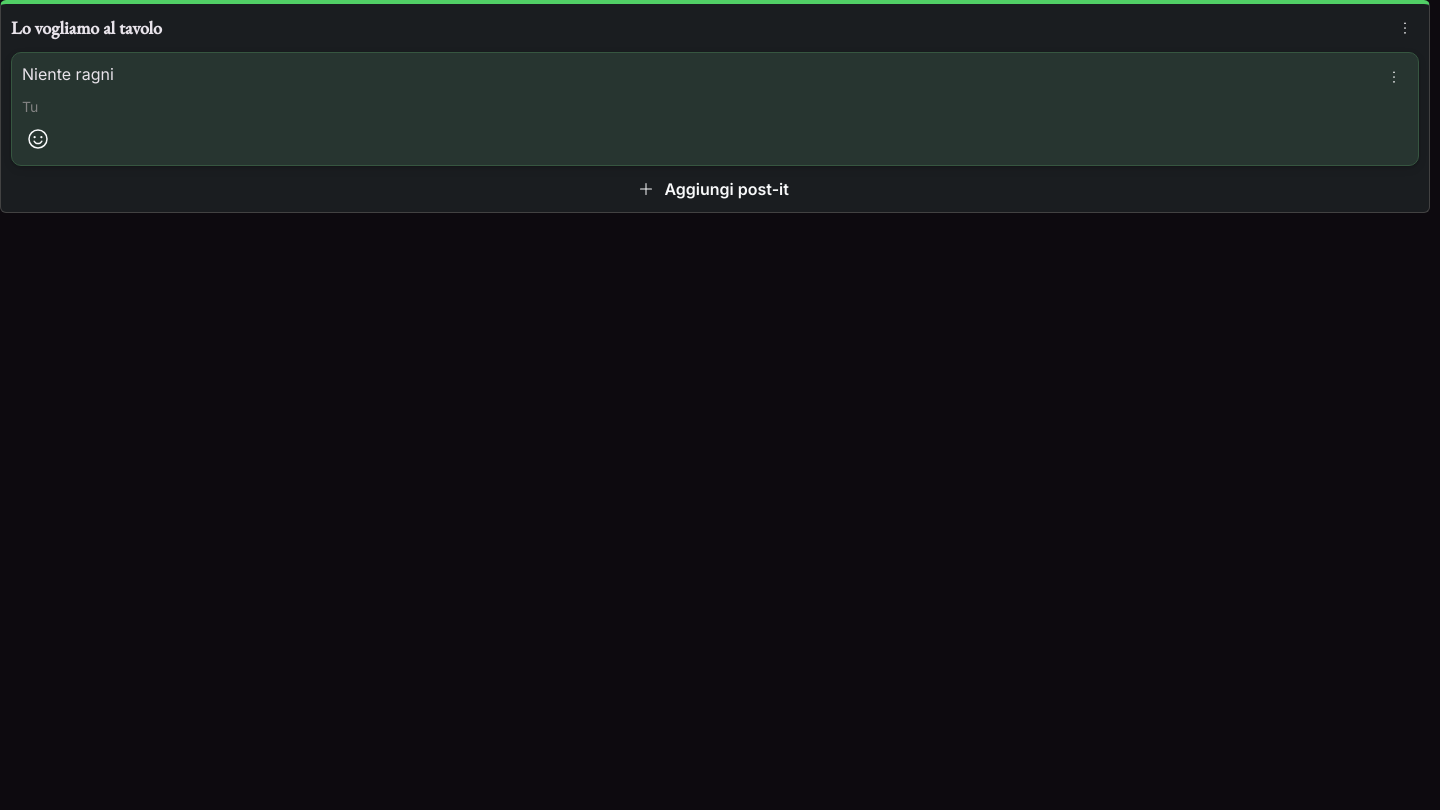
Test: RetroColumn › wears its colour, which the Master changes from its menu
This screenshot has width=1440, height=810.
Step 1. Click the button named "Azioni della colonna Lo vogliamo al tavolo" → (1405, 28), box [1391, 14, 1419, 42]
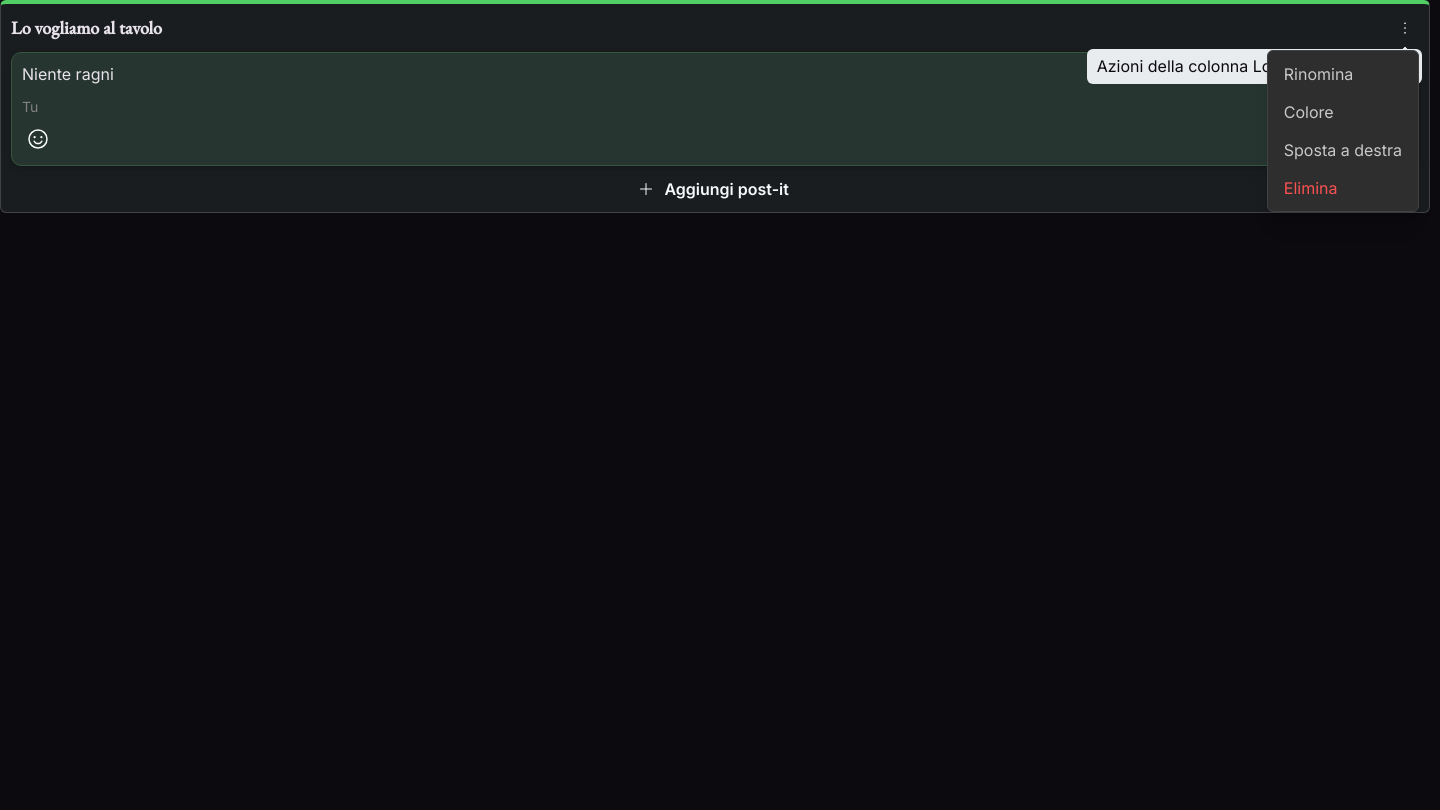
Step 2. Click the menu item "Colore" → (1343, 112), box [1272, 93, 1414, 131]
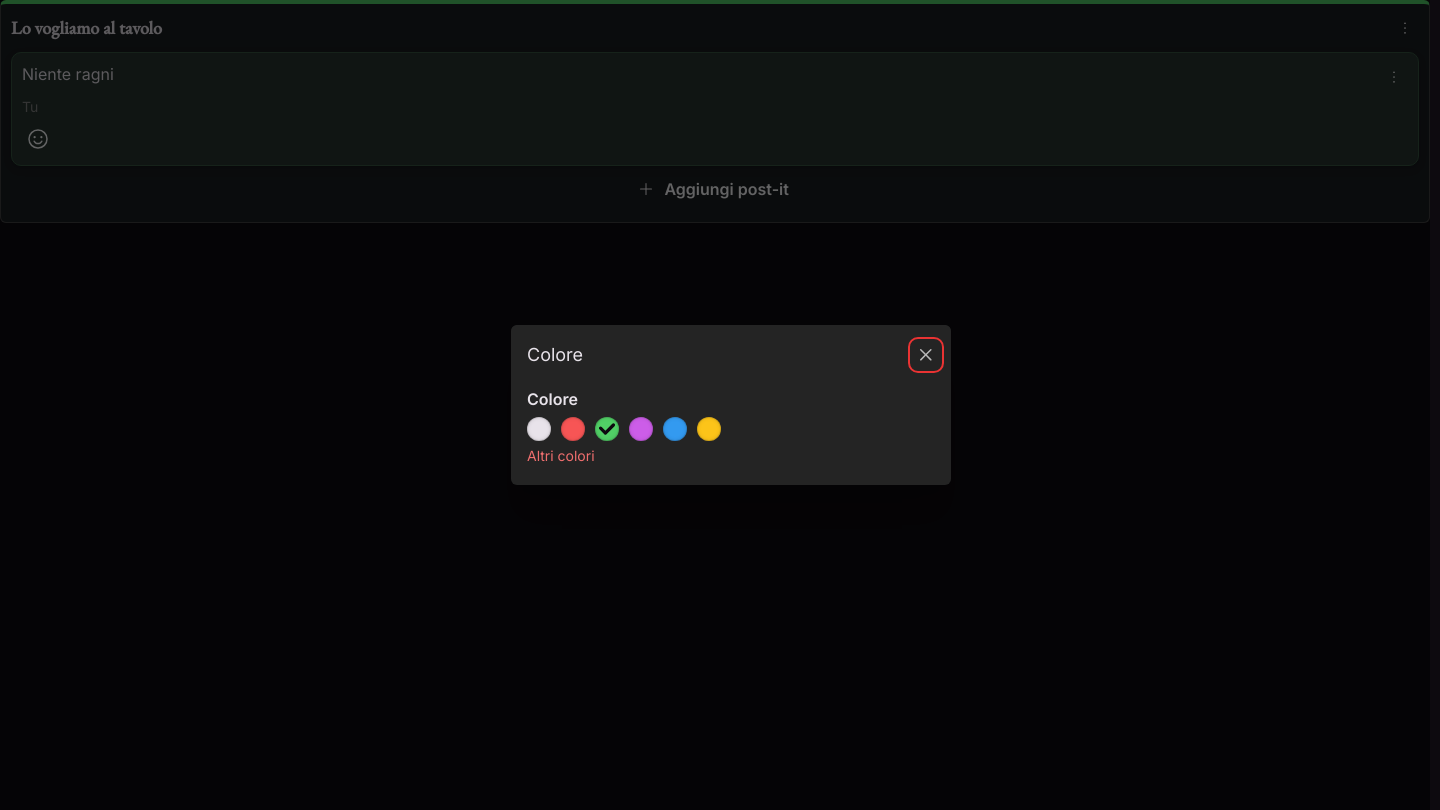
Step 3. Press Escape
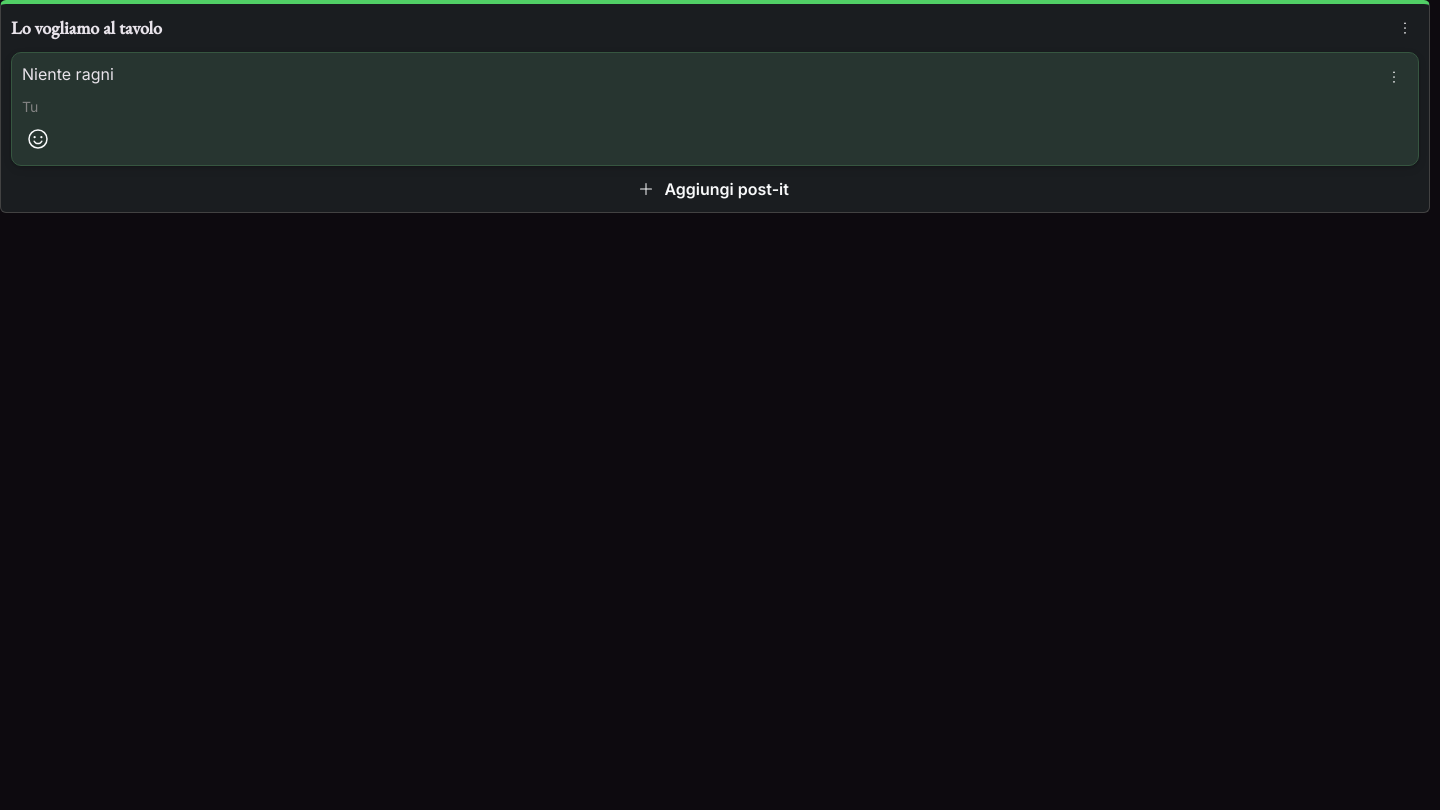
Expected: the dialog is gone
Step 4. Click the button named "Azioni della colonna Lo vogliamo al tavolo" → (1405, 28), box [1391, 14, 1419, 42]
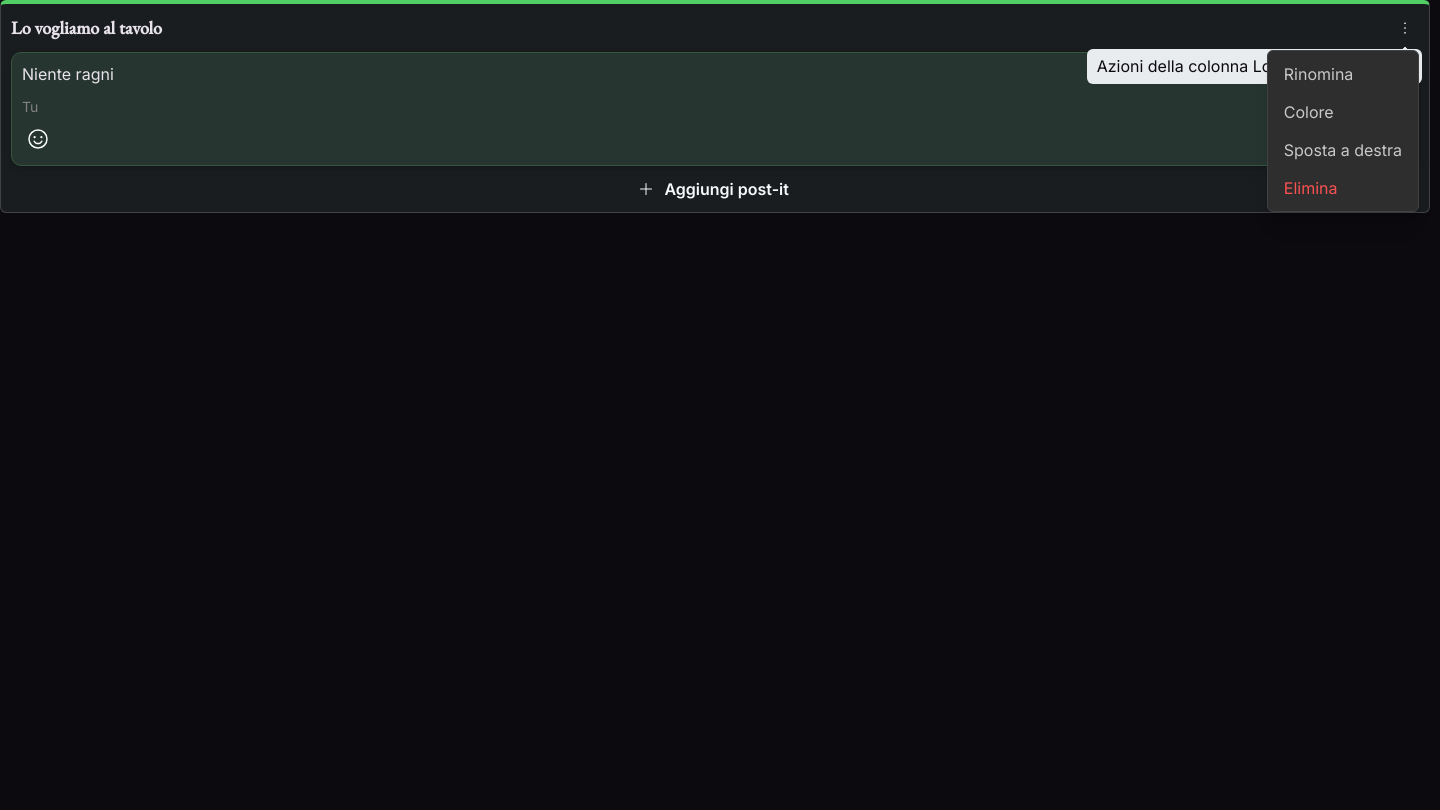
Step 5. Click the menu item "Colore" → (1343, 112), box [1272, 93, 1414, 131]
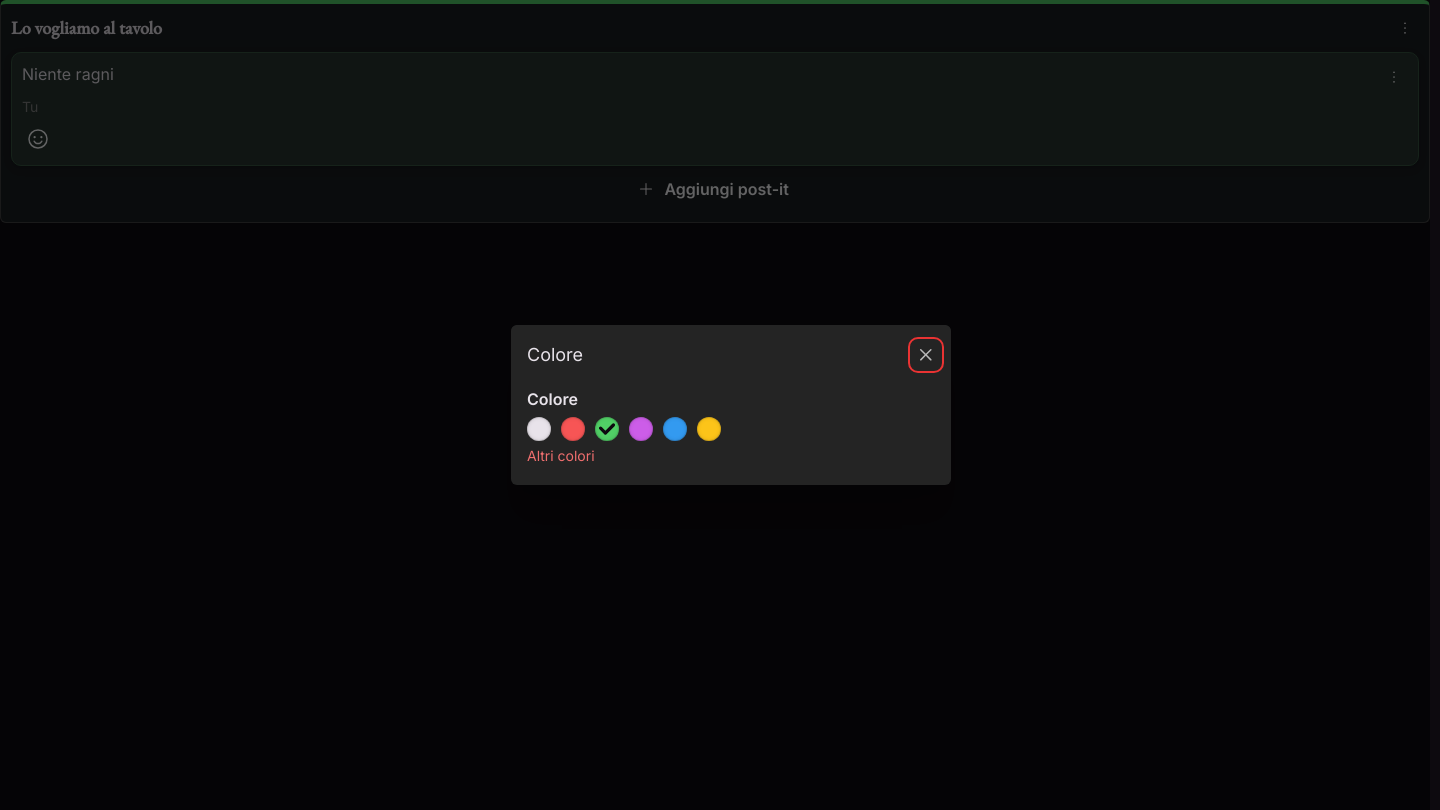
Step 6. Click the radio button named "Fucsia" → (641, 429), box [629, 417, 653, 441]
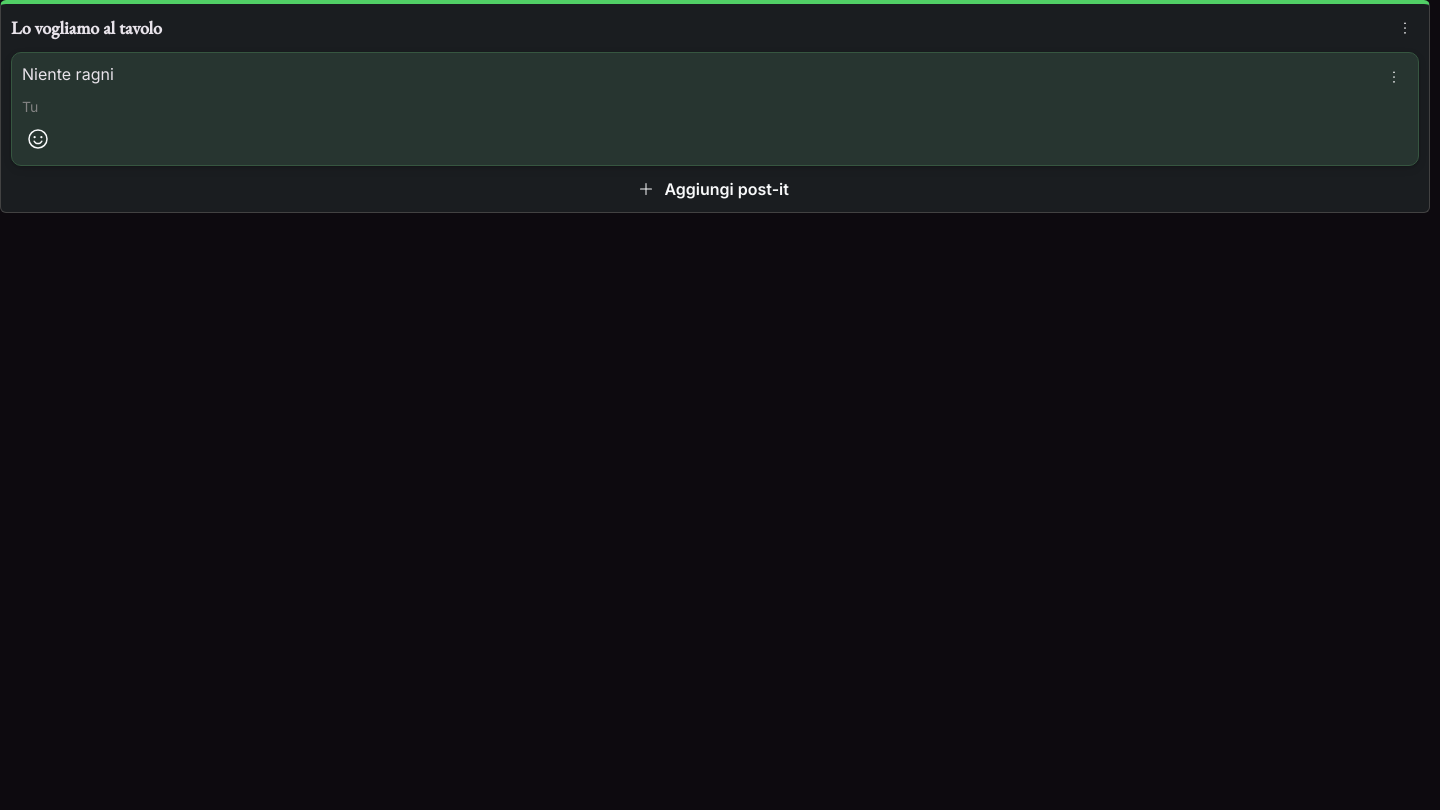
Expected: the dialog is gone
